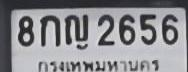2: (97, 13, 114, 45)
5: (139, 13, 156, 44)
6: (118, 13, 134, 44), (161, 13, 177, 44)
8: (17, 15, 33, 46)
A01: (39, 14, 60, 46)
A13: (64, 13, 88, 45)
BKK: (36, 58, 162, 72)
